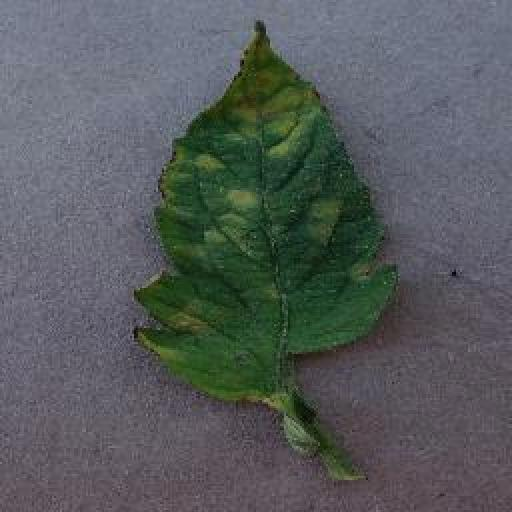disease_tomato: (130, 20, 400, 406)
